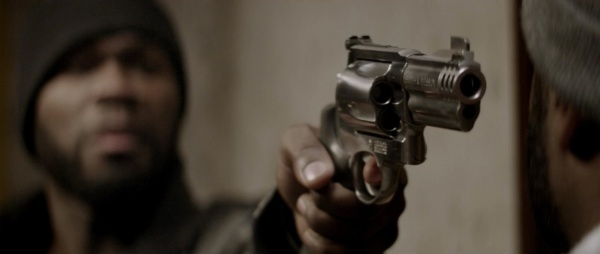gun: (321, 32, 488, 211)
